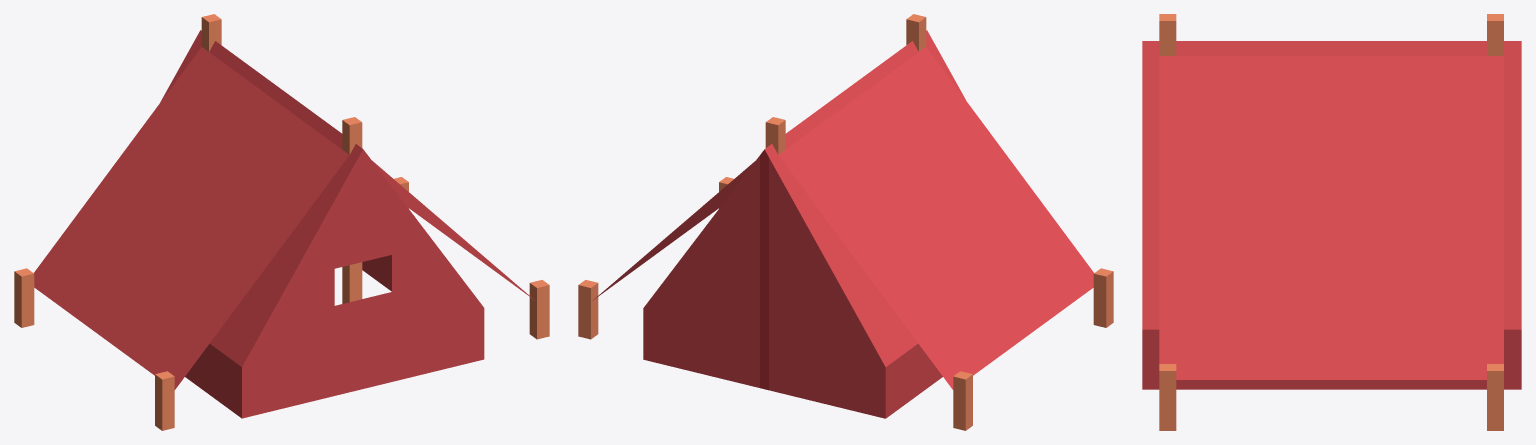
File: tent-detailed-closed.glb
3 renders of one model, left to right at view 1: azimuth 30°, elevation 25°; view 2: azimuth 150°, elevation 25°; view 3: azimuth 270°, elevation 25°, orthographic. The views are drawn at different scales.
Visible parts, largest first — view 1: tent_detailedClosed; view 2: tent_detailedClosed; view 3: tent_detailedClosed.
Boxes of the visible parts, <box> form: tent_detailedClosed: <box>14,14,549,430</box>; tent_detailedClosed: <box>578,14,1113,430</box>; tent_detailedClosed: <box>1142,14,1521,430</box>.
Bounding box in the file's own units: 0.8749 × 0.5611 × 0.6364.
